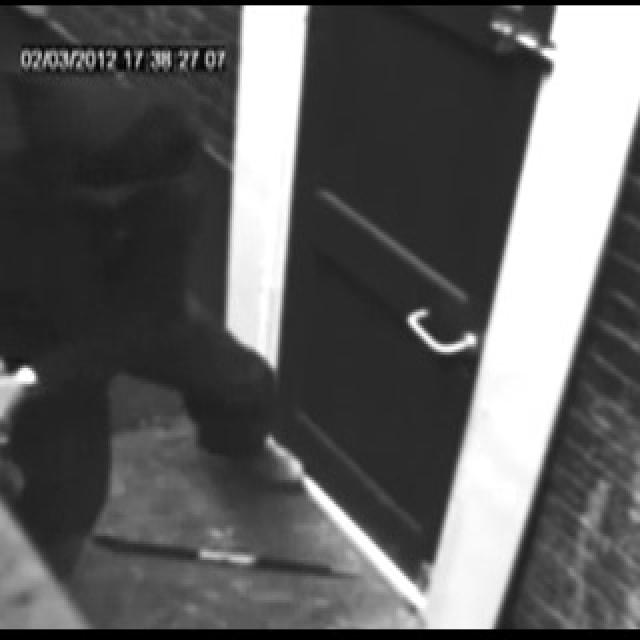thief: (2, 57, 196, 253)
